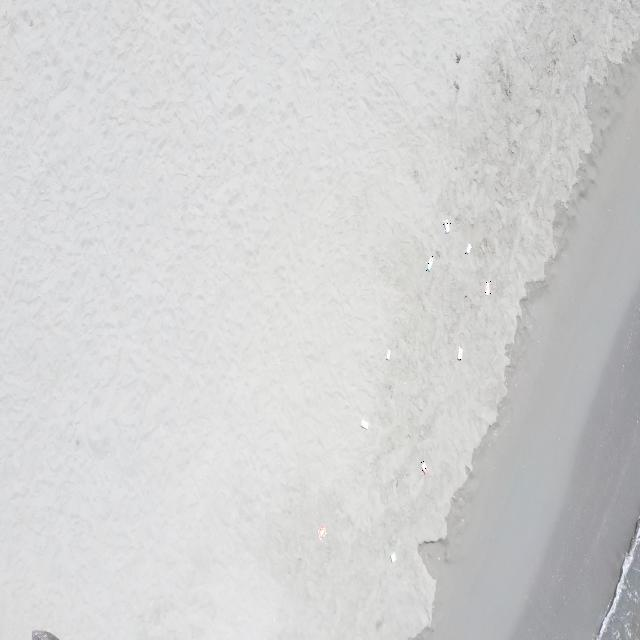Garbage: (316, 527, 326, 540), (426, 255, 432, 271), (420, 460, 427, 473), (360, 417, 368, 428), (456, 346, 462, 360), (384, 348, 390, 360), (464, 243, 471, 253), (484, 280, 489, 293), (444, 219, 449, 232), (390, 552, 395, 562)
